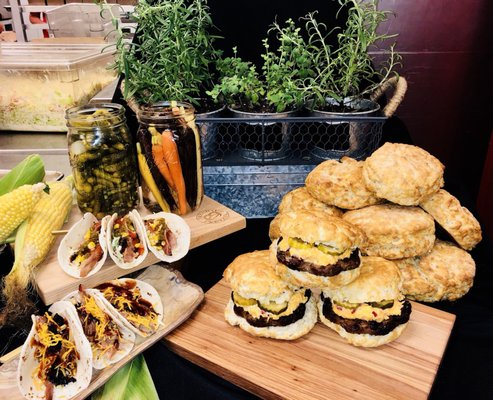pizza: (64, 101, 139, 216)
soup: (222, 248, 323, 340), (319, 256, 412, 348)
